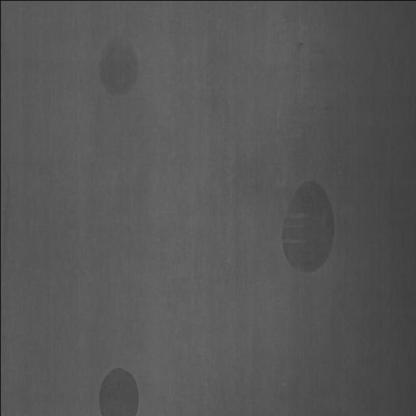oil_spot: (280, 167, 340, 280), (97, 30, 142, 98), (96, 362, 142, 416)
